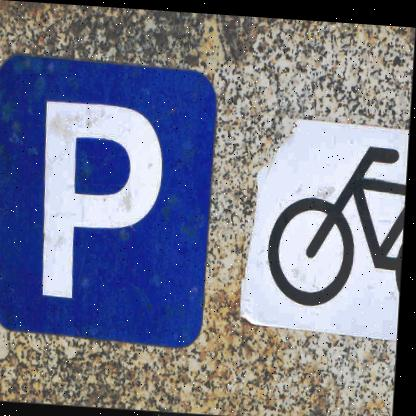Parking: (0, 51, 211, 342)
